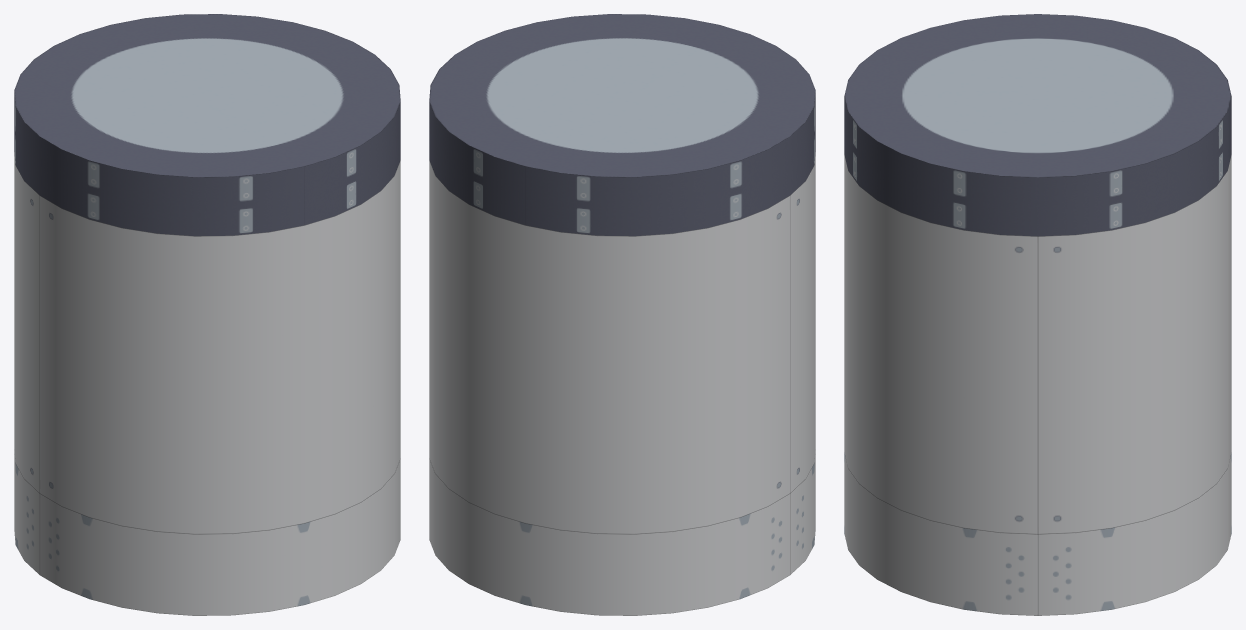
The model's file is Pipe_Tube_02.FBX.
The picture shows the model from 3 angles, left to right: view 1: azimuth 30°, elevation 25°; view 2: azimuth 150°, elevation 25°; view 3: azimuth 270°, elevation 25°; orthographic projection.
Visible parts, largest first — view 1: Pipe_Tube_02; view 2: Pipe_Tube_02; view 3: Pipe_Tube_02.
Part boxes in pixels (left/top/right/bottom): Pipe_Tube_02: left=14, top=14, right=400, bottom=615; Pipe_Tube_02: left=429, top=14, right=815, bottom=615; Pipe_Tube_02: left=844, top=14, right=1231, bottom=615.
Bounding box in the file's own units: 4 × 5 × 4.
Materials: 3 (3 with a texture image).
